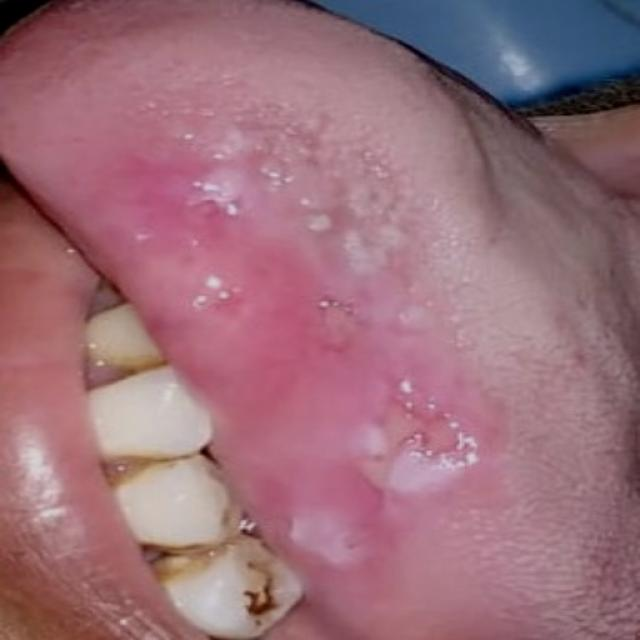cancer-detection: (44, 119, 535, 607)
processing_area: (1, 0, 639, 639)
